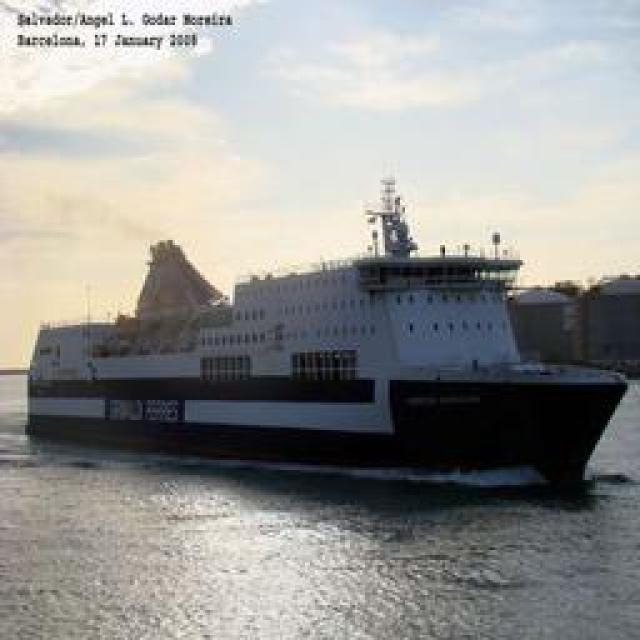ship2: (24, 172, 629, 487)
